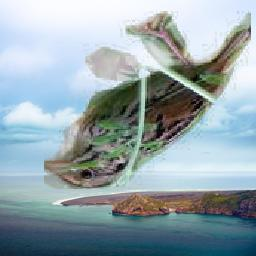Sparrow: (45, 11, 252, 189)
